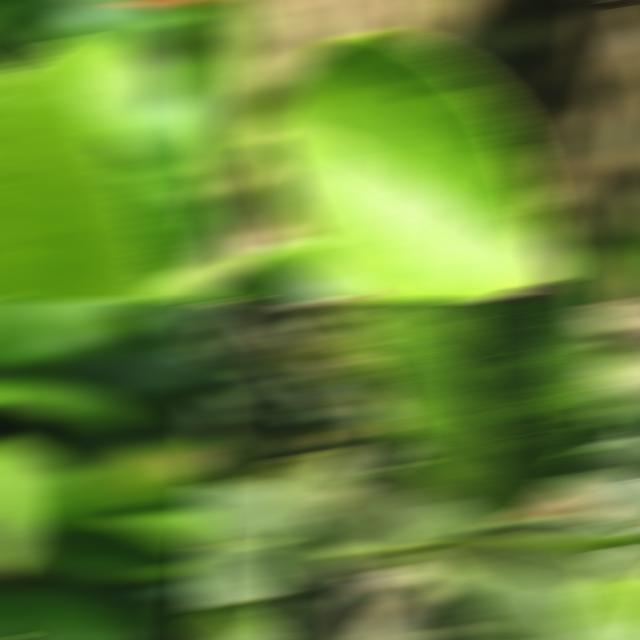Leaf: (254, 34, 570, 298), (345, 302, 610, 523), (0, 39, 165, 298), (194, 482, 350, 606), (424, 547, 611, 638), (322, 464, 487, 546), (194, 2, 253, 179), (196, 241, 362, 298), (0, 581, 155, 638), (235, 446, 361, 511), (0, 302, 127, 366), (553, 437, 640, 525), (558, 552, 640, 638), (94, 440, 180, 505), (573, 224, 632, 298), (483, 519, 638, 537), (194, 426, 244, 481)
